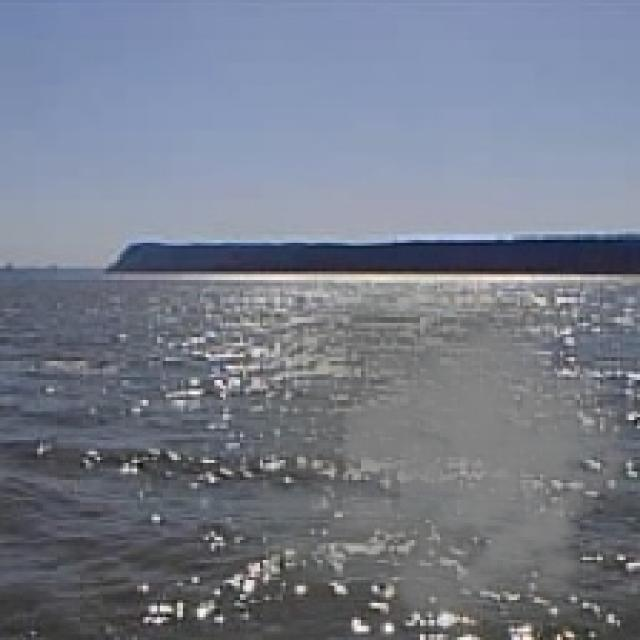smoke: (237, 268, 637, 632)
